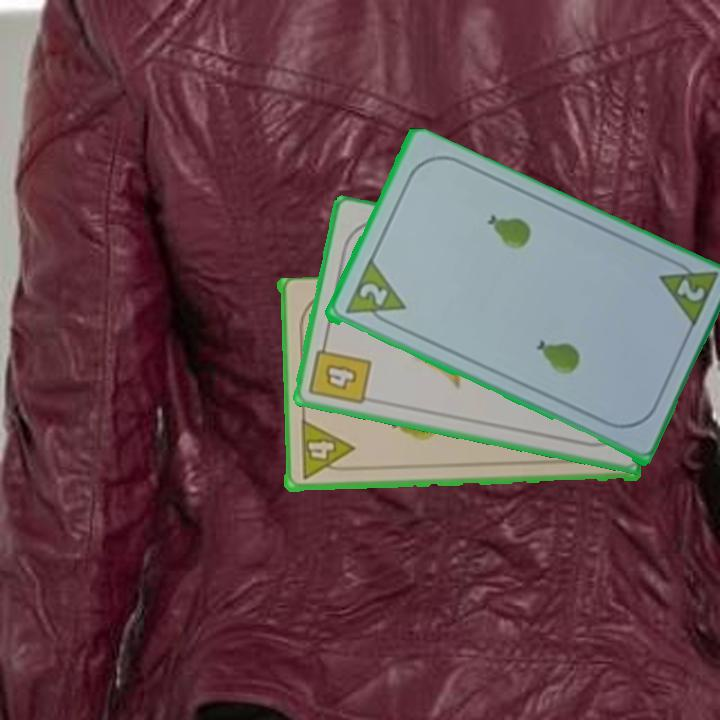2p: (355, 279, 391, 309), (672, 275, 707, 305)
4b: (306, 336, 374, 408)
4p: (296, 418, 355, 483)
